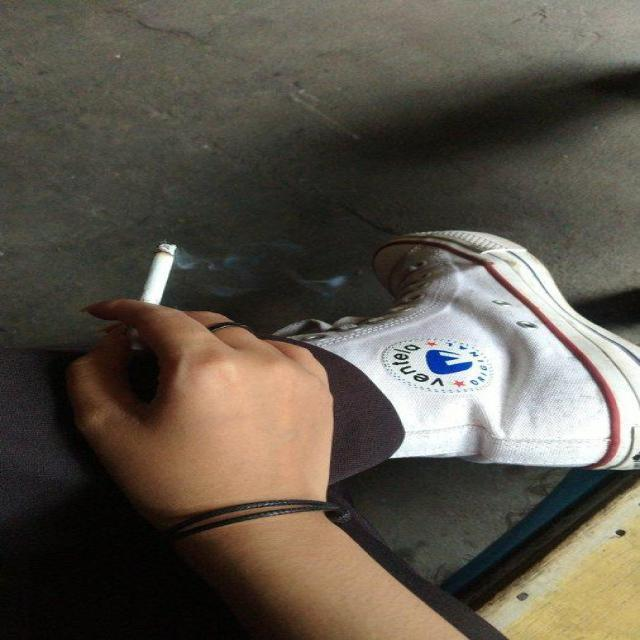rokok: (132, 234, 182, 344)
